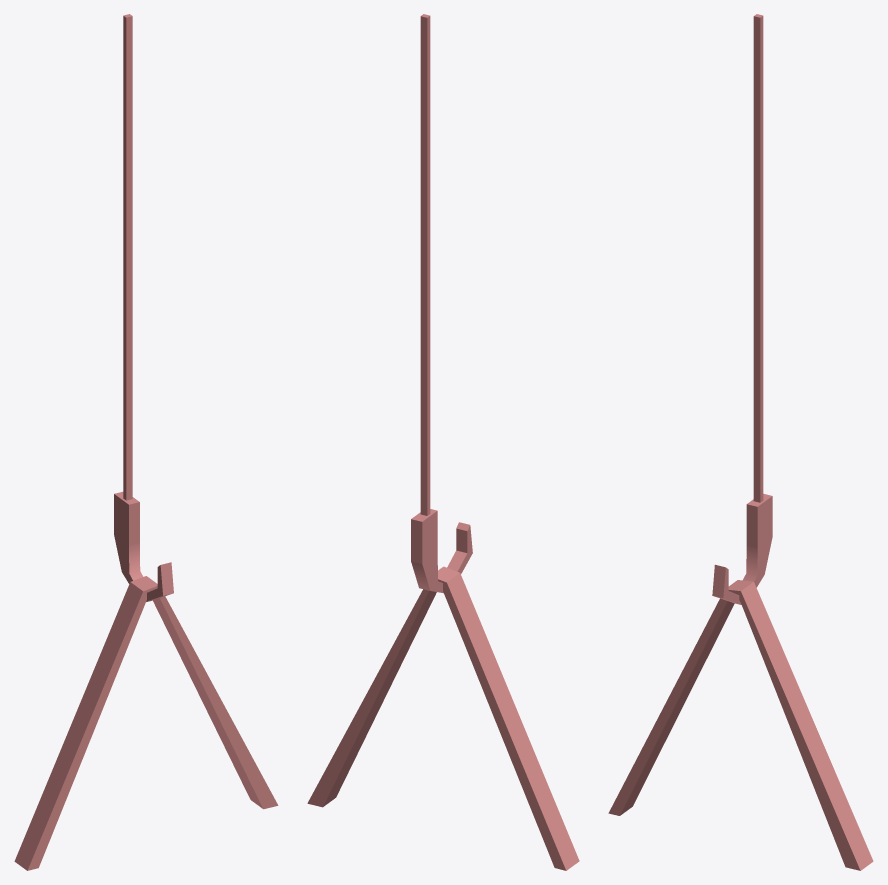
File: Krok_Kran.fbx
The picture shows the model from 3 angles, left to right: view 1: azimuth 30°, elevation 25°; view 2: azimuth 150°, elevation 25°; view 3: azimuth 330°, elevation 25°; orthographic projection. The views are drawn at different scales.
Parts seen in each view (by area): view 1: polySurface81; view 2: polySurface81; view 3: polySurface81.
Boxes of the visible parts, left/top/right/bottom form: polySurface81: left=14, top=14, right=278, bottom=870; polySurface81: left=307, top=14, right=579, bottom=870; polySurface81: left=608, top=14, right=873, bottom=870.
Bounding box in the file's own units: 38.63 × 119 × 13.07.
